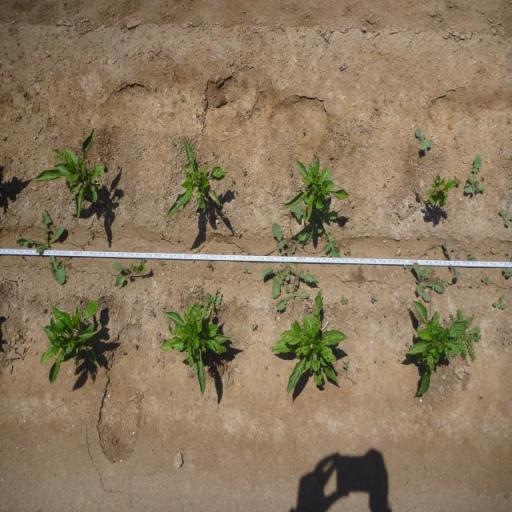plant: (268, 286, 347, 397), (159, 300, 234, 400), (32, 126, 108, 221), (405, 298, 466, 397), (165, 136, 227, 229), (38, 298, 101, 387), (281, 147, 351, 218), (422, 174, 462, 209)
weed: (261, 220, 318, 301), (16, 209, 66, 286), (289, 204, 344, 259), (448, 308, 484, 364), (443, 239, 480, 281), (411, 263, 447, 303), (274, 275, 310, 313), (464, 152, 486, 196), (110, 262, 147, 288), (414, 127, 432, 154), (206, 288, 223, 308), (498, 207, 512, 228), (492, 293, 508, 311), (502, 266, 512, 278), (340, 293, 349, 305), (242, 266, 252, 276), (342, 360, 350, 371), (481, 276, 490, 285), (206, 261, 214, 271), (442, 277, 452, 285), (402, 264, 412, 272), (370, 294, 378, 304), (344, 247, 352, 256), (242, 166, 247, 176), (252, 322, 258, 330), (288, 169, 294, 176), (90, 229, 94, 238), (160, 260, 166, 266), (120, 350, 126, 356), (404, 342, 410, 348), (302, 128, 306, 136), (140, 258, 146, 263), (237, 231, 242, 237), (374, 357, 378, 364), (231, 176, 235, 183), (211, 148, 215, 154), (79, 270, 83, 274), (134, 342, 136, 348)
